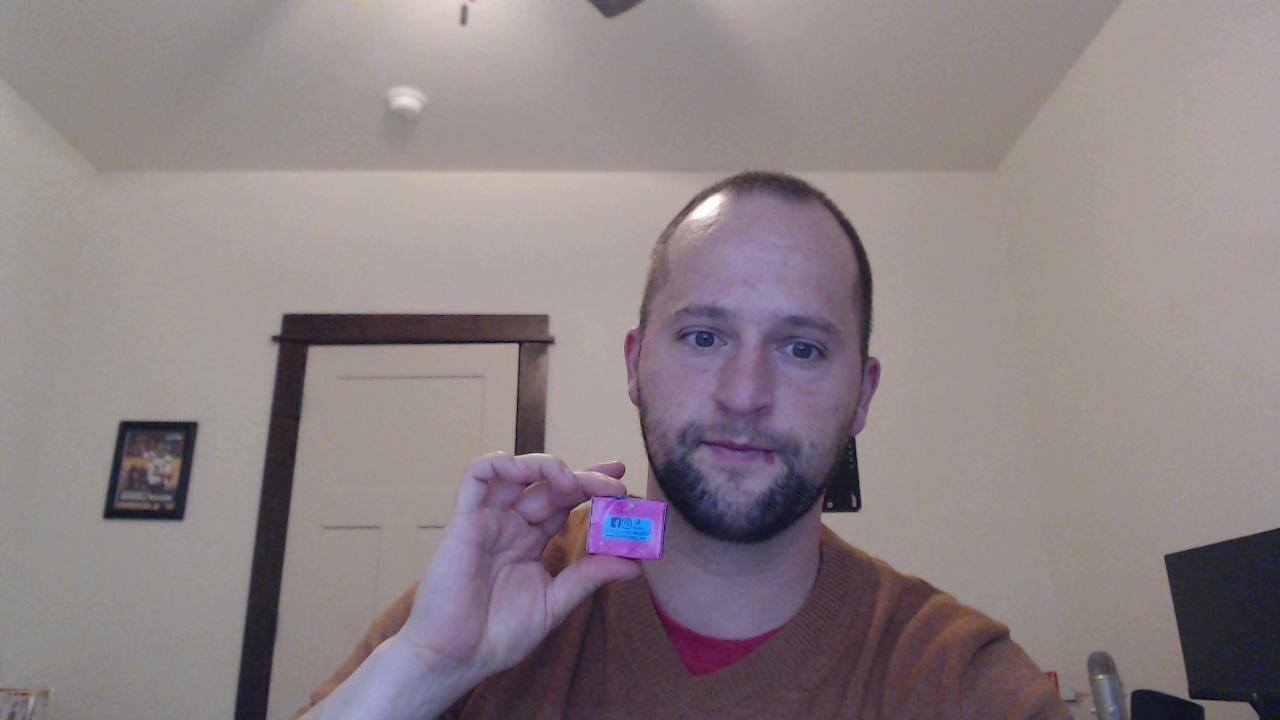nerds: (583, 487, 672, 563)
